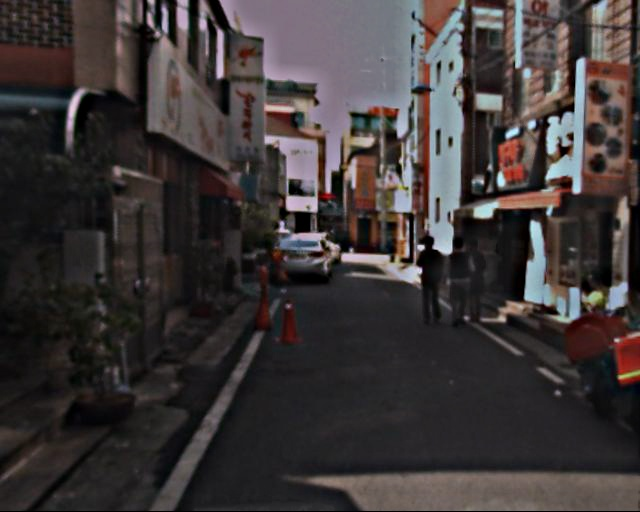person: (442, 235, 480, 328), (416, 237, 453, 327), (461, 234, 498, 324)
